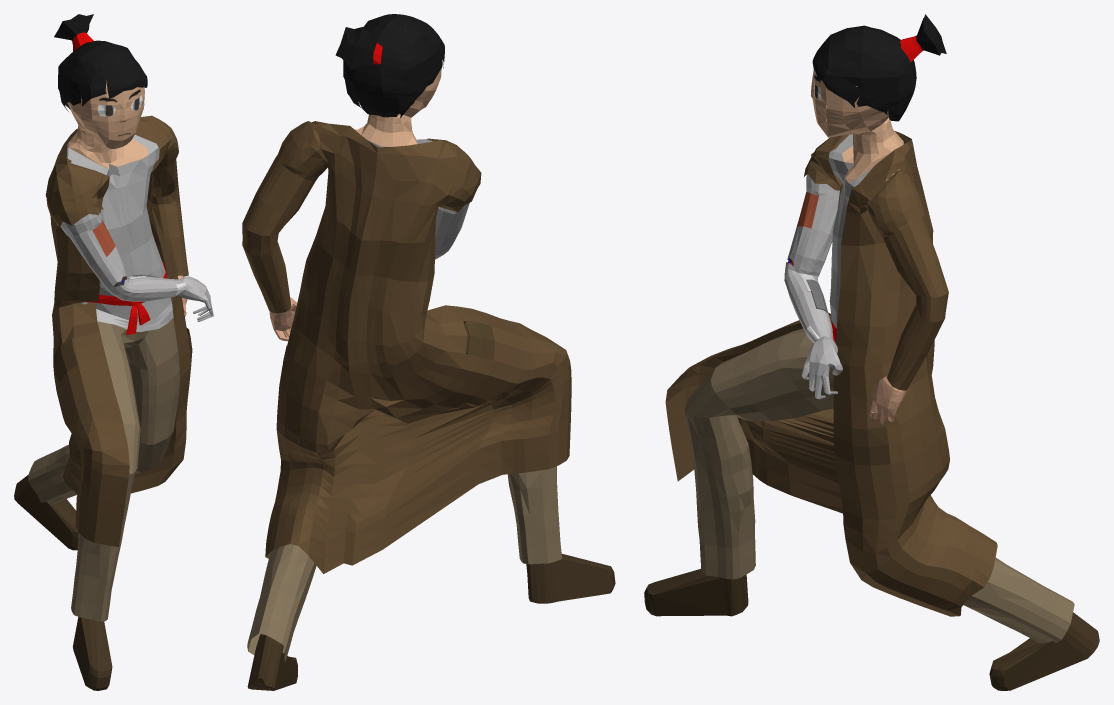
File: One_DL_000004.obj
3 renders of one model, left to right at view 1: azimuth 30°, elevation 25°; view 2: azimuth 150°, elevation 25°; view 3: azimuth 270°, elevation 25°, orthographic. The views are drawn at different scales.
Parts seen in each view (by area): view 1: Hair_Cube.004; view 2: Hair_Cube.004; view 3: Hair_Cube.004.
Part boxes in pixels (x1=…): Hair_Cube.004: x1=14, y1=14, x2=213, y2=690; Hair_Cube.004: x1=242, y1=14, x2=615, y2=690; Hair_Cube.004: x1=644, y1=14, x2=1099, y2=690.
Bounding box in the file's own units: 1.37 × 3.52 × 2.23.
